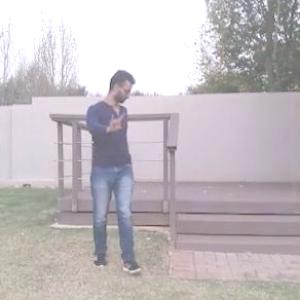takeoff-hand: (101, 104, 125, 138)
